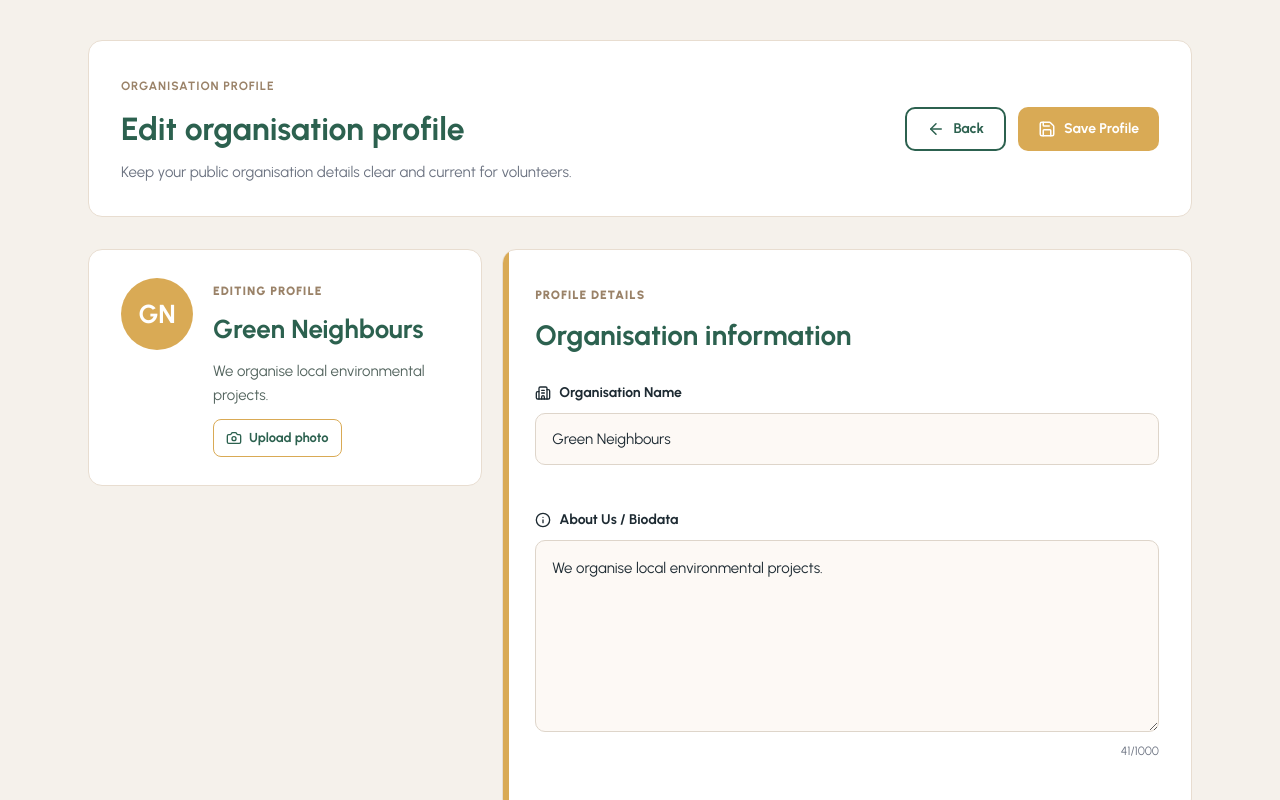
Scenario: Organisation profile UI › validates name and biodata before profile save
The width and height of the screenshot is (1280, 800).
Clear the field labelled "Organisation Name" at (847, 439), box [535, 413, 1159, 465]
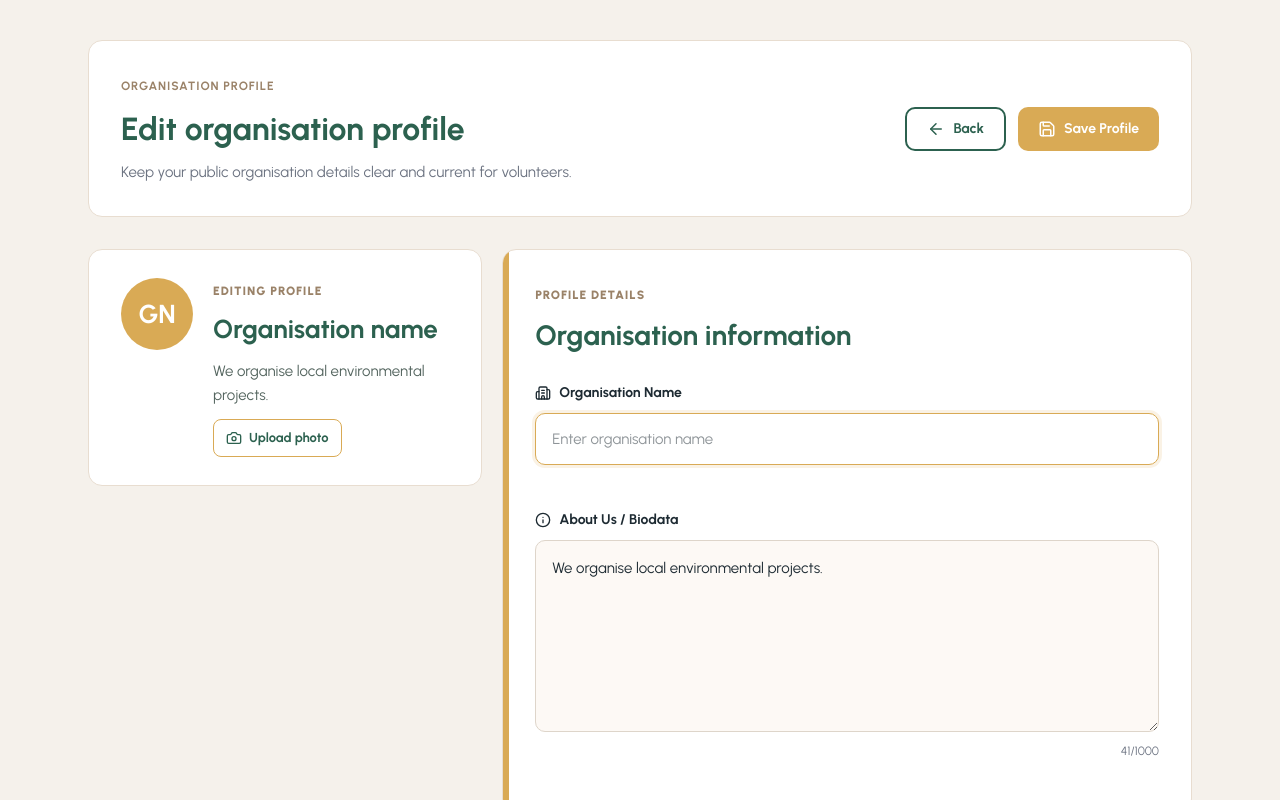
Clear the text box labelled "About Us / Biodata" at (847, 636), box [535, 540, 1159, 732]
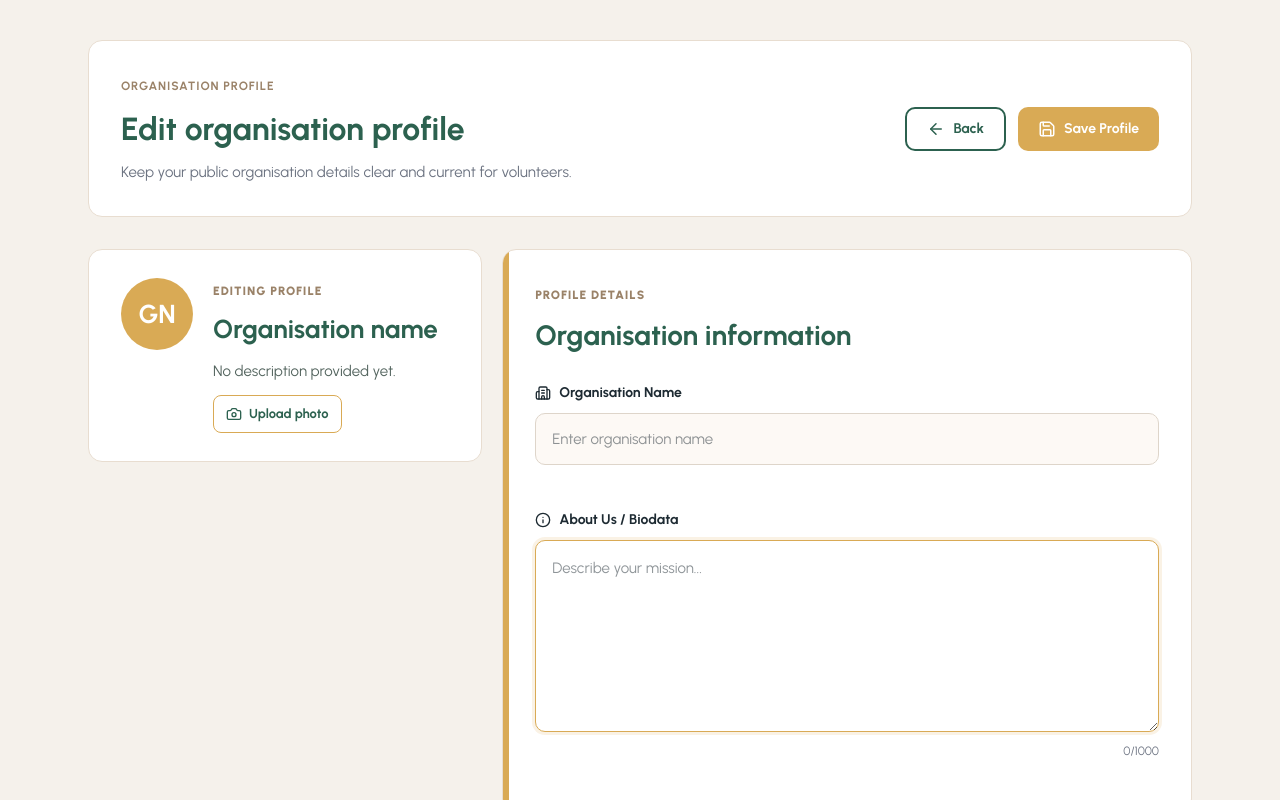
Click the button "Save Profile" at (1088, 129), box [1018, 107, 1159, 151]
(page scrolled)
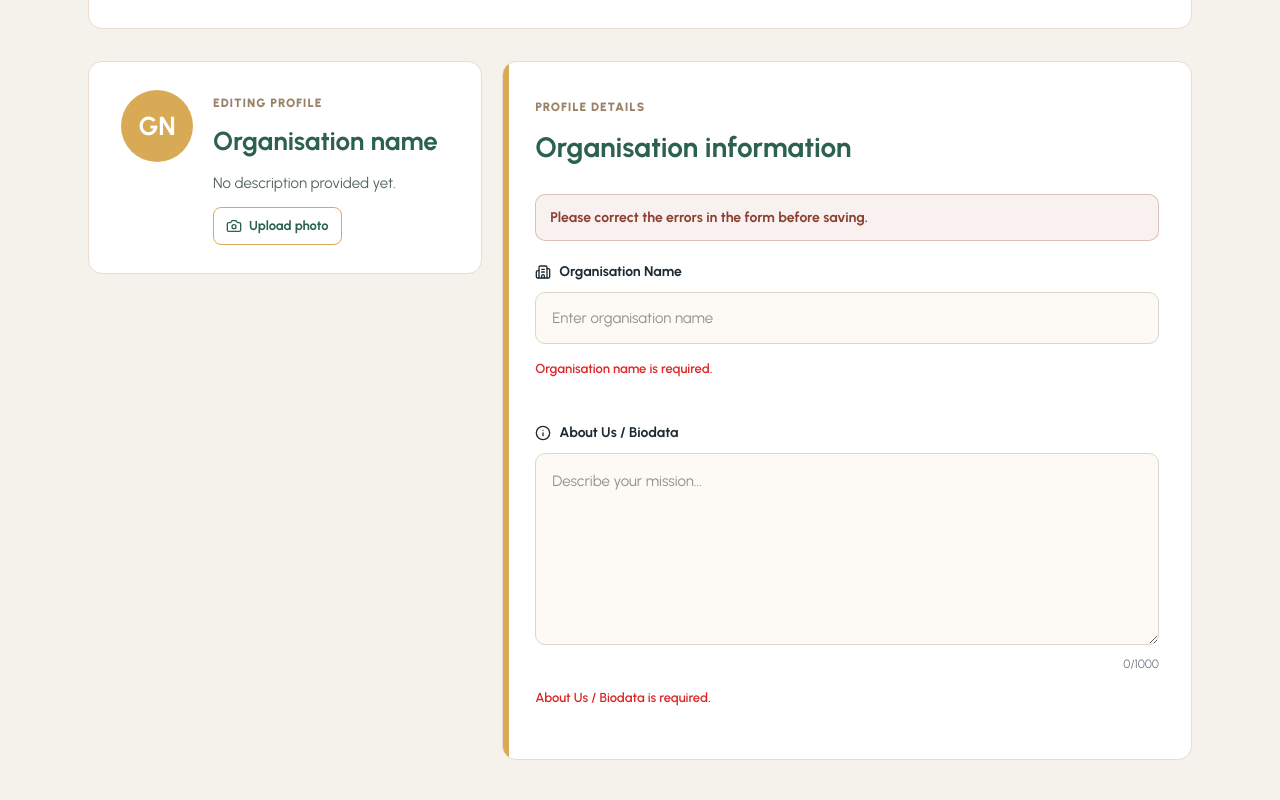
Now the text "Organisation name is required." is shown, box [535, 361, 712, 376]
Now the text "About Us / Biodata is required." is shown, box [535, 690, 711, 705]
